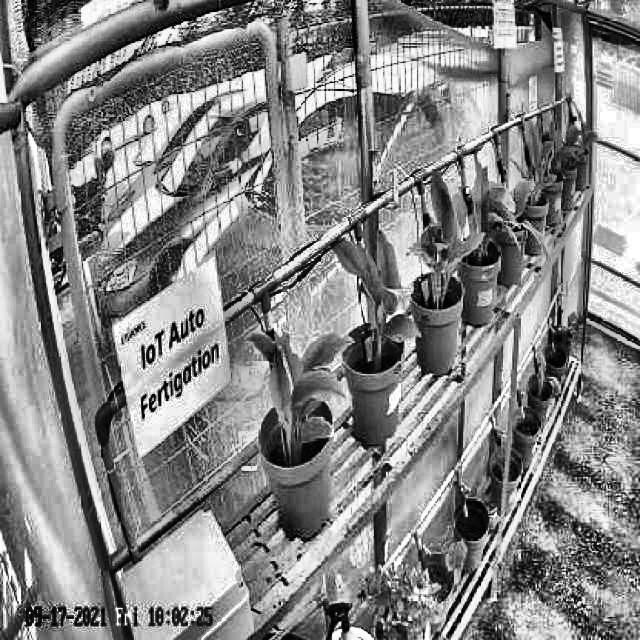plants: (250, 328, 355, 463), (327, 229, 422, 377), (408, 165, 486, 312), (449, 162, 522, 267)
